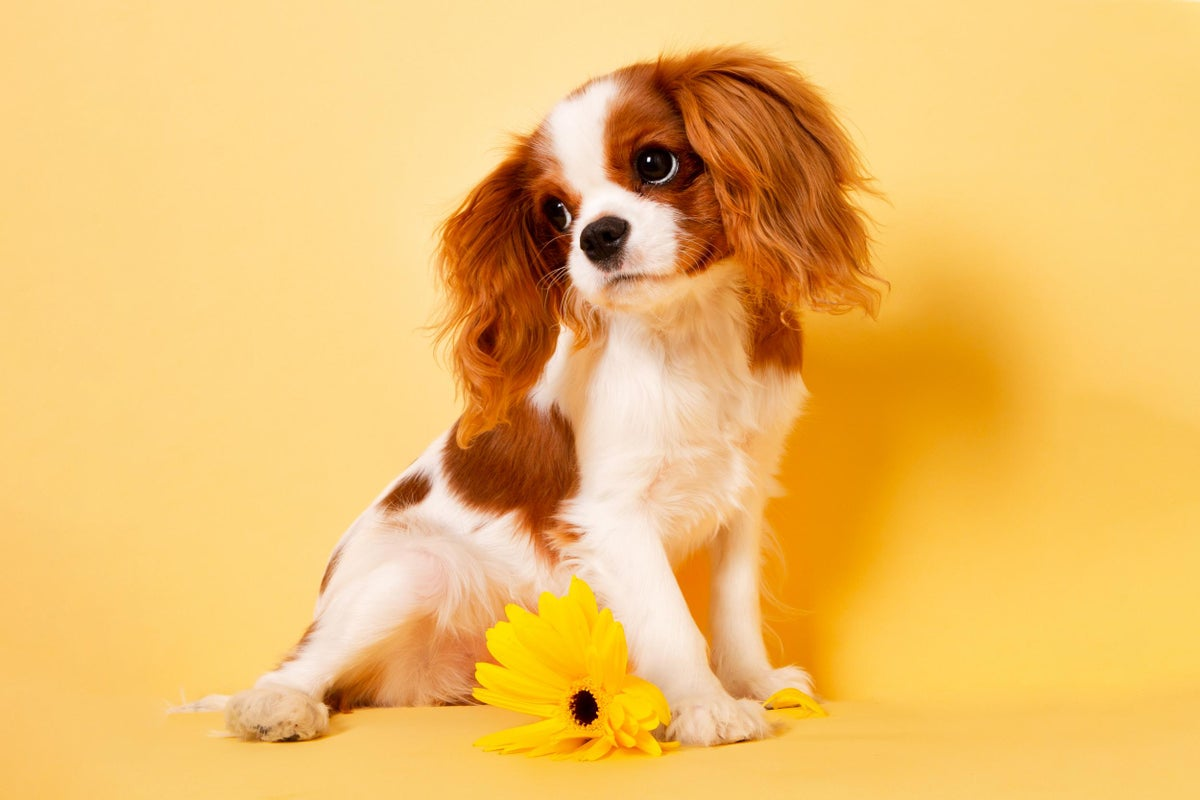dog: (224, 50, 866, 744)
